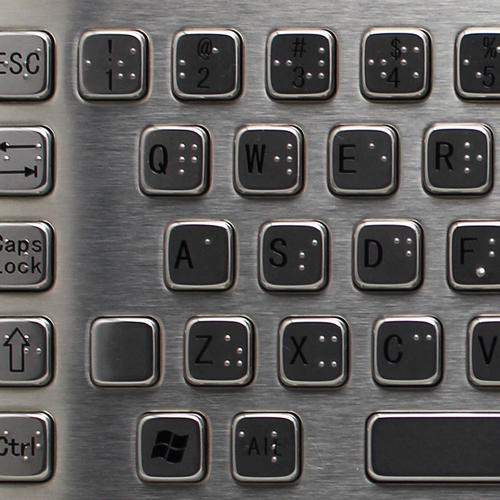Braille: (211, 43, 236, 82), (84, 45, 109, 82), (304, 44, 327, 82), (399, 43, 422, 81), (462, 43, 485, 81), (367, 140, 389, 179), (115, 45, 138, 82), (297, 236, 319, 274), (238, 426, 260, 464), (367, 44, 389, 81), (178, 141, 200, 178), (272, 141, 294, 178), (463, 139, 485, 176), (222, 332, 244, 369), (274, 42, 294, 82), (204, 236, 226, 272), (270, 428, 291, 465), (318, 333, 338, 371), (178, 45, 199, 81), (412, 332, 434, 366), (392, 236, 414, 270), (22, 236, 42, 273), (24, 332, 43, 369), (23, 141, 43, 176), (22, 427, 42, 462), (22, 46, 42, 80)
